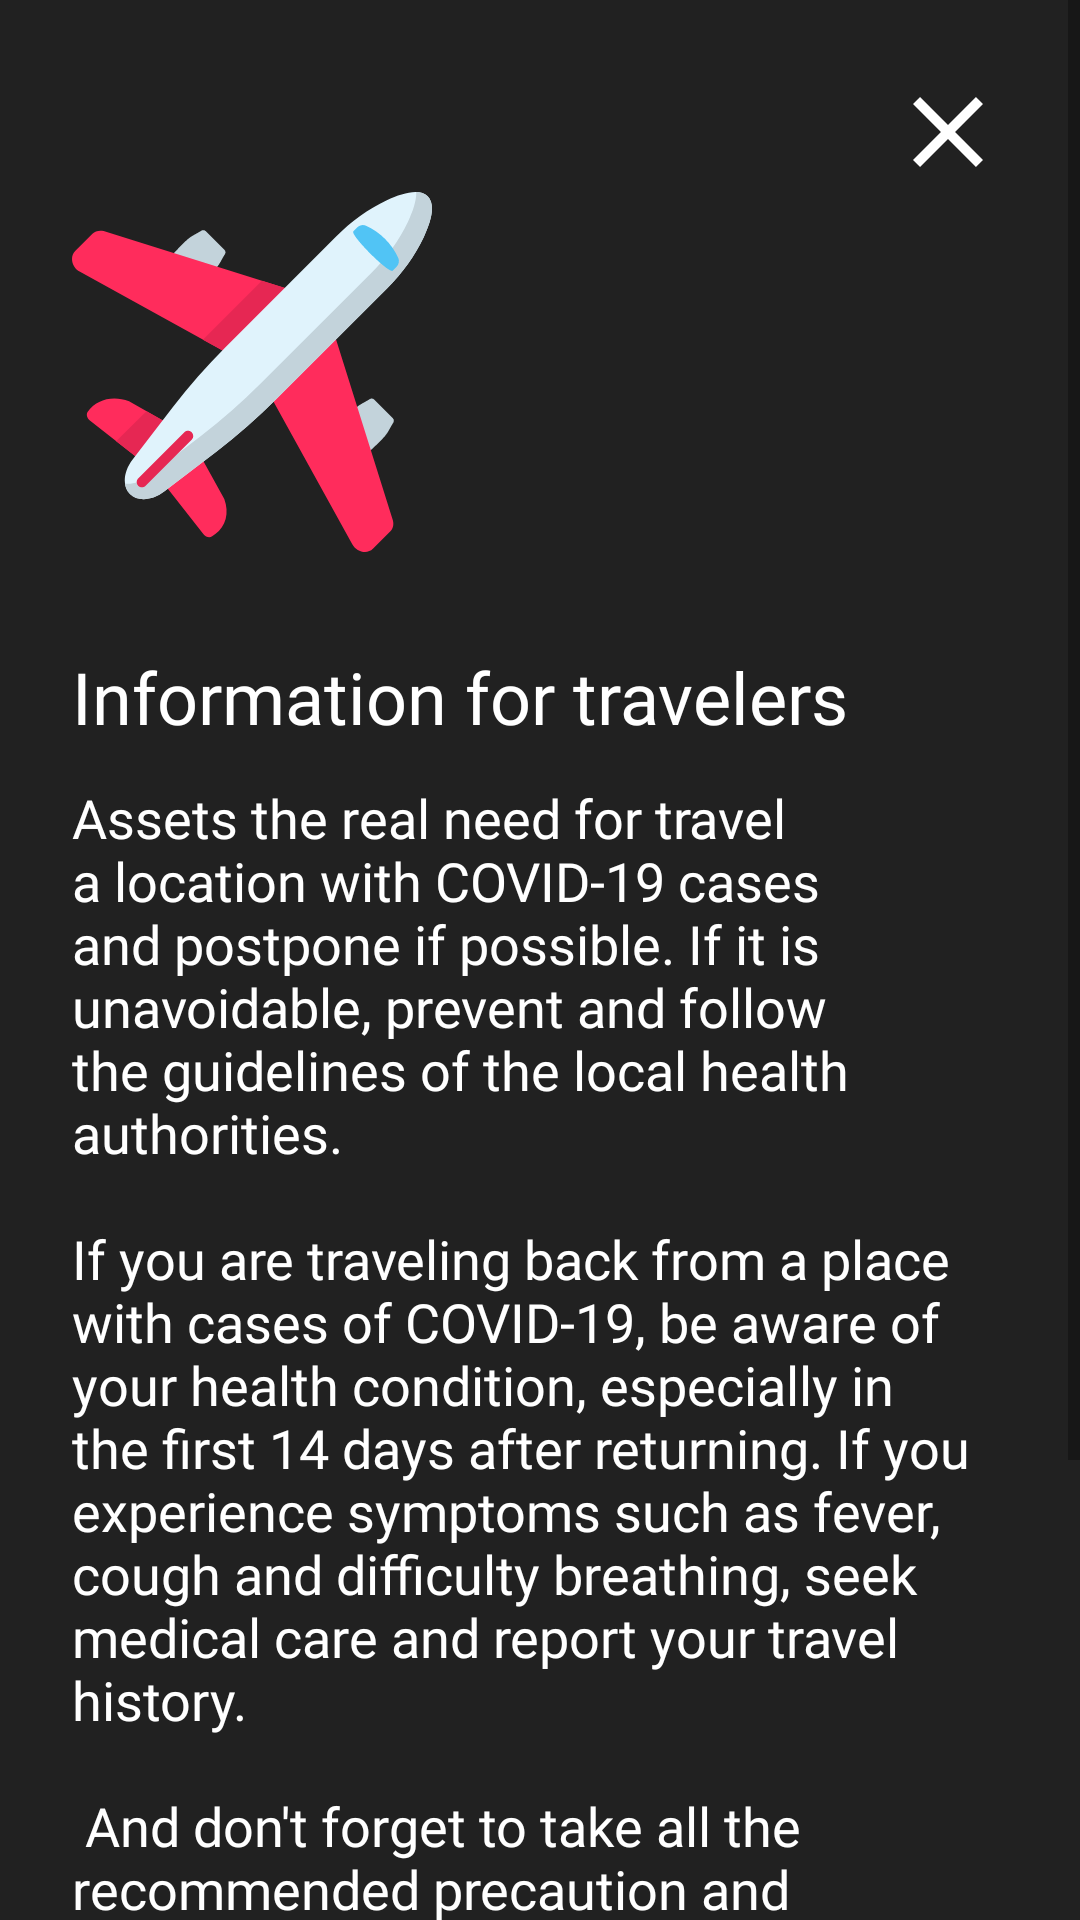

Screen size 1080×1920. Icon name, then its center in pixels as [x,y]:
close: [948,132]
plane: [252,372]
